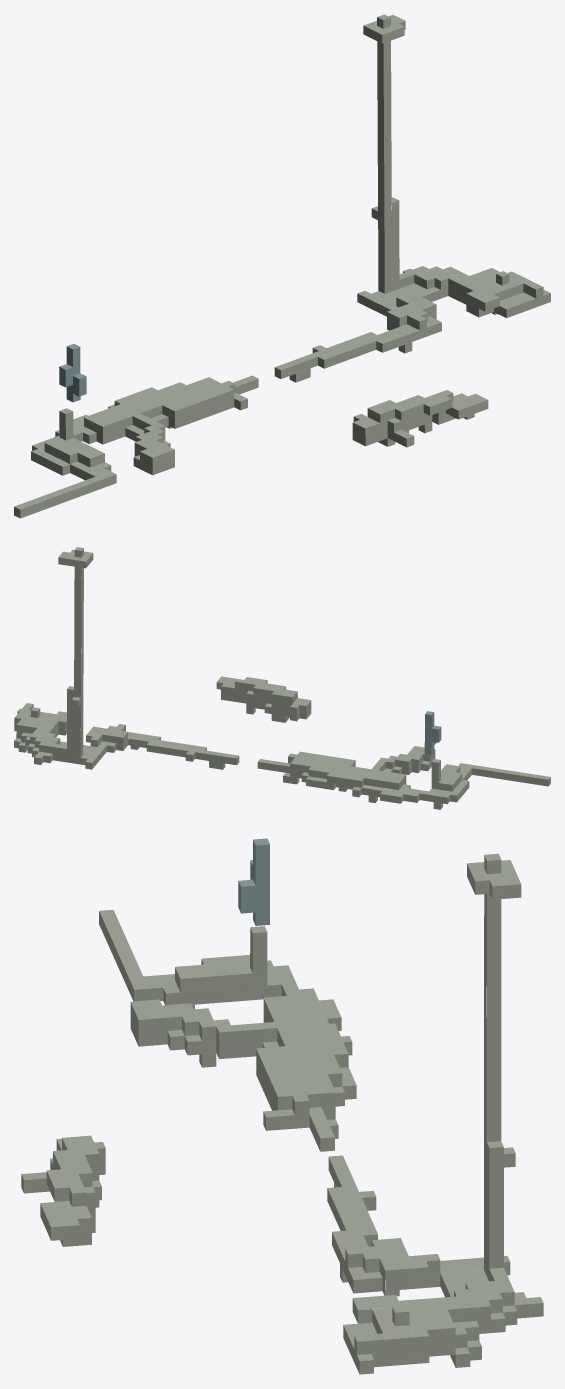
3 renders of one model, top to bottom at view 1: azimuth 30°, elevation 25°; view 2: azimuth 150°, elevation 25°; view 3: azimuth 270°, elevation 25°, orthographic. The views are drawn at different scales.
Parts seen in each view (by area): view 1: measured-industrial; view 2: measured-industrial; view 3: measured-industrial.
Part boxes in pixels (left/top/right/bottom): measured-industrial: left=14, top=14, right=550, bottom=518; measured-industrial: left=14, top=547, right=550, bottom=809; measured-industrial: left=21, top=838, right=543, bottom=1374.
Size of the model in its own units: 110 by 49.85 by 53.13.
